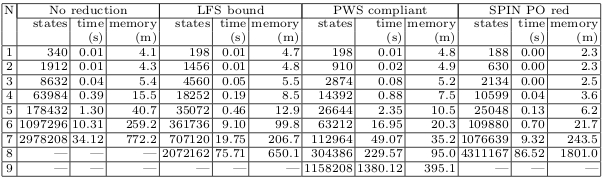column: (159, 1, 213, 179), (107, 1, 160, 179), (406, 2, 459, 179), (549, 2, 602, 179), (19, 1, 71, 179), (303, 2, 355, 180), (250, 1, 301, 180), (355, 2, 405, 179), (460, 2, 511, 175), (510, 2, 549, 179), (212, 1, 249, 179), (71, 1, 107, 177), (1, 1, 16, 178)
row: (1, 18, 599, 45), (1, 160, 602, 179), (1, 2, 603, 20), (1, 74, 603, 90), (1, 44, 603, 59), (1, 59, 603, 74), (1, 146, 603, 160), (1, 118, 601, 132), (1, 133, 603, 146), (1, 90, 602, 103), (1, 104, 601, 116)
